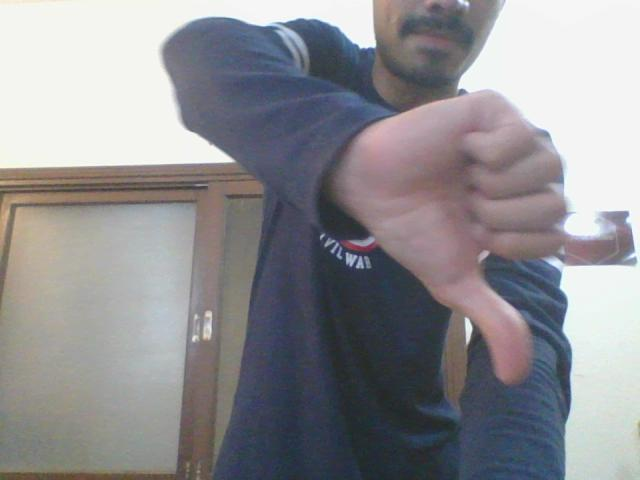thumbs-down: (391, 77, 592, 403)
